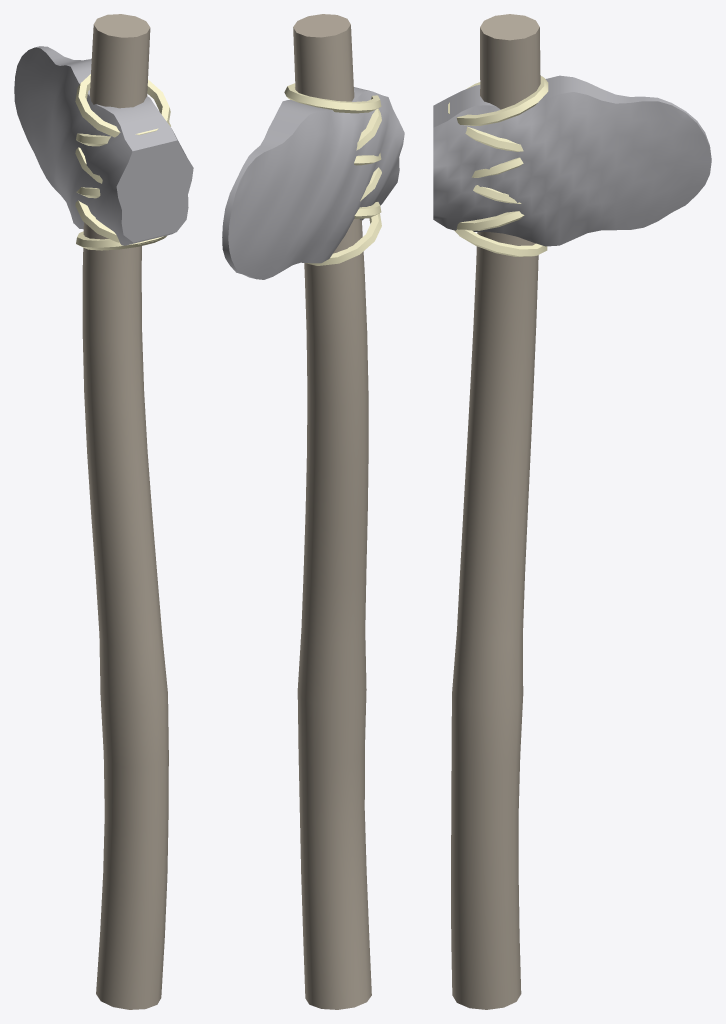
Rendered from stone_axe.glb.
3 views of the same model, side by side, from view 1: azimuth 30°, elevation 25°; view 2: azimuth 150°, elevation 25°; view 3: azimuth 270°, elevation 25° (orthographic).
Parts seen in each view (by area): view 1: stone_axe; view 2: stone_axe; view 3: stone_axe.
Boxes of the visible parts, bbox=[...] form: stone_axe: bbox=[14, 14, 193, 1009]; stone_axe: bbox=[222, 14, 404, 1009]; stone_axe: bbox=[433, 14, 711, 1009].
Size of the model in its own units: 0.0443 by 0.5015 by 0.13.
